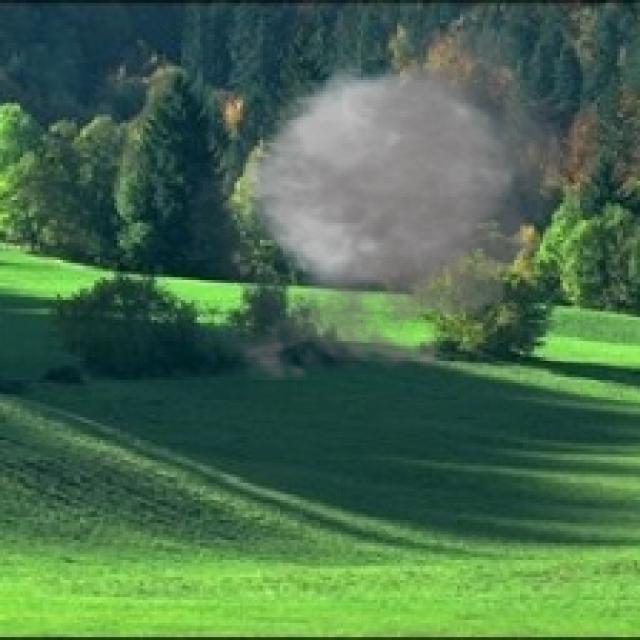smoke: (169, 9, 594, 392)
